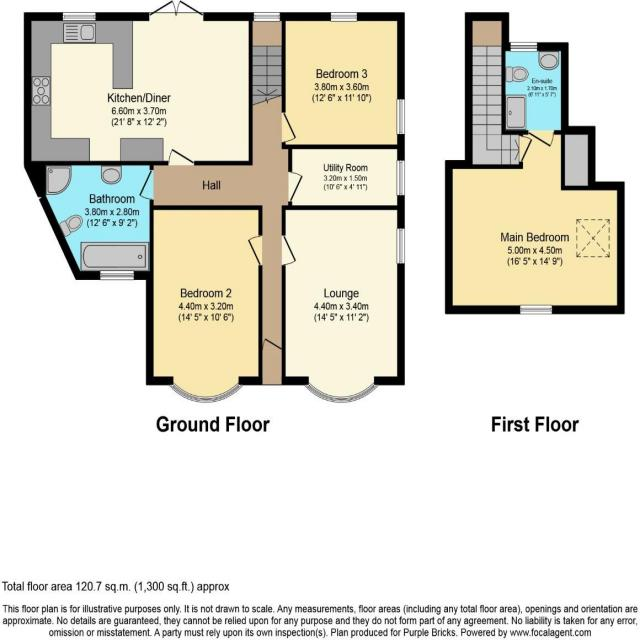DOOR: (525, 129, 558, 150), (288, 169, 306, 206), (245, 233, 263, 266), (281, 233, 297, 268), (138, 167, 154, 201), (281, 111, 297, 144), (167, 147, 194, 165)
DOUBLE DOOR: (147, 0, 205, 21)
ROOM: (24, 0, 253, 166), (445, 126, 625, 314), (283, 205, 405, 405), (145, 206, 264, 404), (281, 12, 405, 149)
WINDOW: (300, 378, 381, 406), (165, 380, 246, 406), (519, 302, 554, 316), (61, 11, 96, 22), (396, 227, 406, 265), (396, 98, 406, 135), (396, 159, 406, 196), (252, 11, 281, 23), (509, 41, 538, 53), (330, 11, 358, 22)
